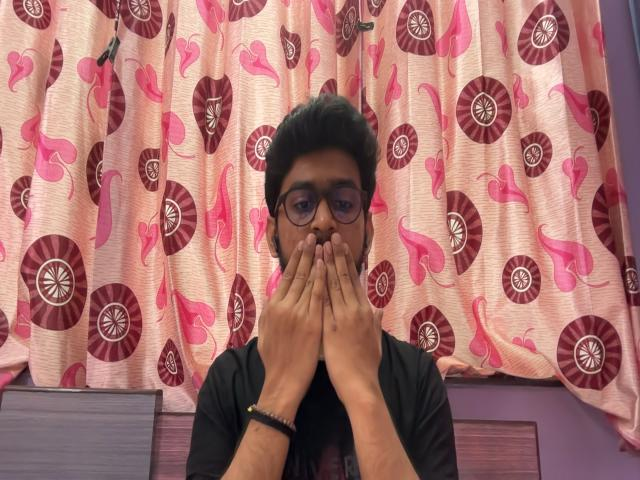Thanks: (258, 229, 387, 409)
